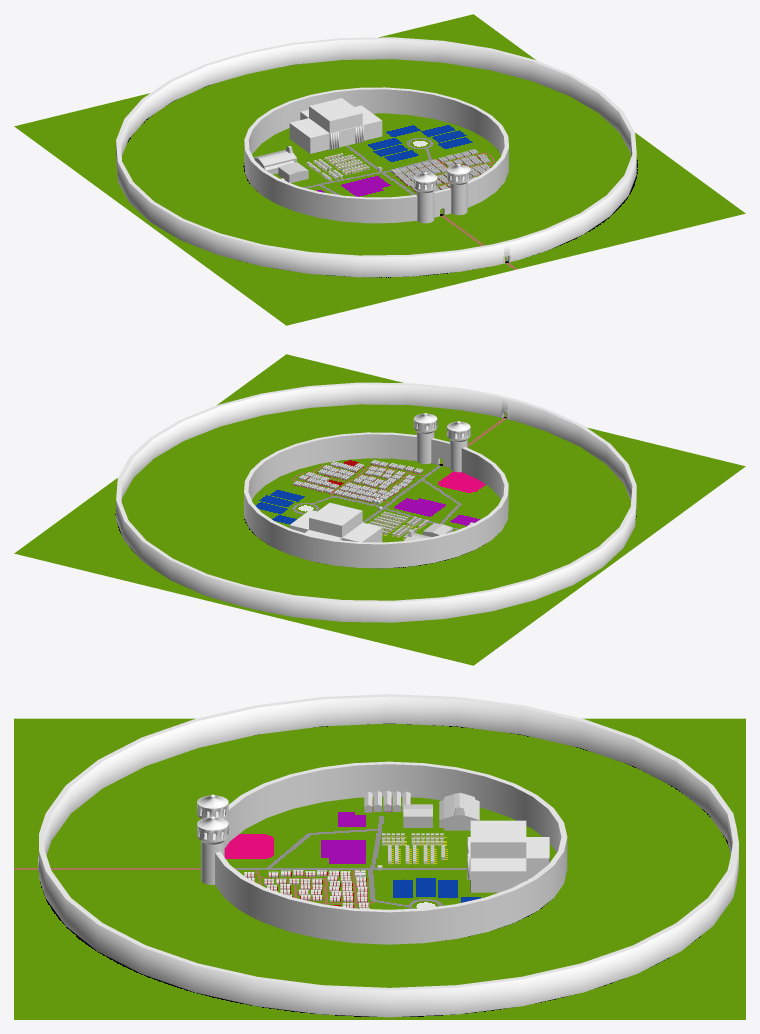
The model's file is amarillo.glb.
3 renders of one model, top to bottom at view 1: azimuth 30°, elevation 25°; view 2: azimuth 150°, elevation 25°; view 3: azimuth 270°, elevation 25°, orthographic. The views are drawn at different scales.
Visible parts, largest first — view 1: Ground, WallOuter, WallInner, Palace, Tower, SlumHouse.033, MarketStall.001, Temple; view 2: Ground, WallOuter, WallInner, SlumHouse.033, Palace, Tower, MarketStall.001; view 3: Ground, WallOuter, WallInner, Palace, SlumHouse.033, Tower, Temple, MarketStall.001, NarrowShop, Cube.001.
Boxes of the visible parts, x1,y1,x2,y2 form: Ground: (14, 14, 745, 325); WallOuter: (116, 37, 636, 277); WallInner: (244, 87, 508, 223); Palace: (289, 98, 382, 153); Tower: (413, 164, 470, 223); SlumHouse.033: (395, 149, 490, 192); MarketStall.001: (306, 153, 369, 181); Temple: (253, 146, 296, 174); Ground: (14, 354, 745, 665); WallOuter: (116, 382, 636, 622); WallInner: (244, 432, 508, 568); SlumHouse.033: (293, 460, 422, 503); Palace: (289, 502, 382, 542); Tower: (413, 413, 470, 472); MarketStall.001: (368, 511, 428, 538); Ground: (14, 718, 745, 1019); WallOuter: (38, 694, 738, 1017); WallInner: (215, 761, 567, 944); Palace: (467, 820, 549, 892); SlumHouse.033: (244, 870, 369, 908); Tower: (197, 794, 228, 884); Temple: (439, 792, 479, 830); MarketStall.001: (382, 833, 444, 864); NarrowShop: (364, 790, 410, 812); Cube.001: (403, 804, 432, 827).
Bounding box in the file's own units: 600 × 59.93 × 616.
Materials: 4 (1 with a texture image).
